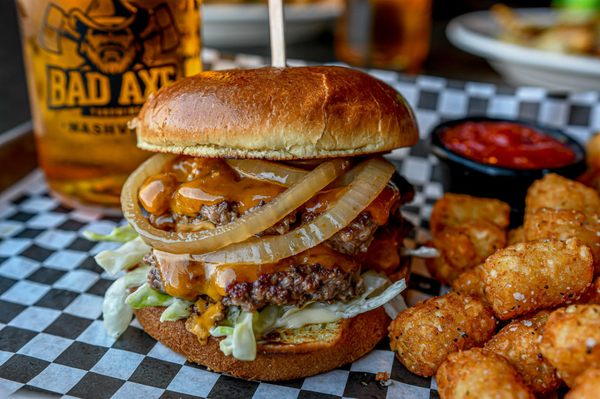pizza: (15, 1, 204, 211), (331, 0, 434, 73)
soup: (117, 63, 419, 382)
